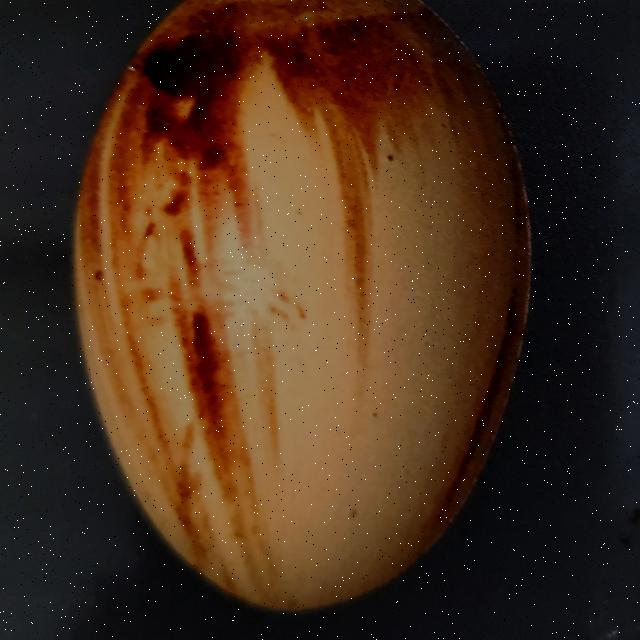Blood Stained Egg: (40, 0, 598, 640)
